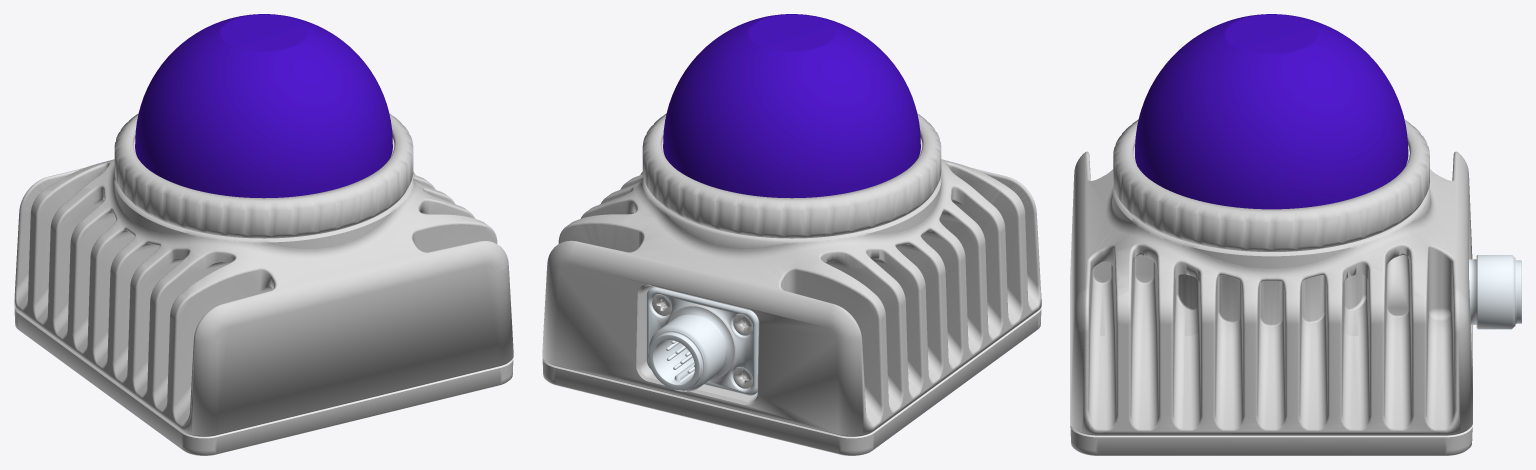
File: mid-360-asm.dae
3 renders of one model, left to right at view 1: azimuth 30°, elevation 25°; view 2: azimuth 150°, elevation 25°; view 3: azimuth 270°, elevation 25°, orthographic. The views are drawn at different scales.
Parts seen in each view (by area): view 1: node_82cb7ad0_a466_4590_afd9_c1edd8071fec_mesh0, node_82cb7ad0_a466_4590_afd9_c1edd8071fec_mesh6, node_82cb7ad0_a466_4590_afd9_c1edd8071fec_mesh3, node_82cb7ad0_a466_4590_afd9_c1edd8071fec_mesh1, node_82cb7ad0_a466_4590_afd9_c1edd8071fec_mesh4; view 2: node_82cb7ad0_a466_4590_afd9_c1edd8071fec_mesh0, node_82cb7ad0_a466_4590_afd9_c1edd8071fec_mesh6, node_82cb7ad0_a466_4590_afd9_c1edd8071fec_mesh3, node_82cb7ad0_a466_4590_afd9_c1edd8071fec_mesh1, node_82cb7ad0_a466_4590_afd9_c1edd8071fec_mesh5, node_82cb7ad0_a466_4590_afd9_c1edd8071fec_mesh4; view 3: node_82cb7ad0_a466_4590_afd9_c1edd8071fec_mesh0, node_82cb7ad0_a466_4590_afd9_c1edd8071fec_mesh6, node_82cb7ad0_a466_4590_afd9_c1edd8071fec_mesh1, node_82cb7ad0_a466_4590_afd9_c1edd8071fec_mesh3, node_82cb7ad0_a466_4590_afd9_c1edd8071fec_mesh5, node_82cb7ad0_a466_4590_afd9_c1edd8071fec_mesh4.
Boxes of the visible parts, <box> form: node_82cb7ad0_a466_4590_afd9_c1edd8071fec_mesh0: <box>14,159,513,435</box>; node_82cb7ad0_a466_4590_afd9_c1edd8071fec_mesh6: <box>135,14,392,198</box>; node_82cb7ad0_a466_4590_afd9_c1edd8071fec_mesh3: <box>14,113,513,455</box>; node_82cb7ad0_a466_4590_afd9_c1edd8071fec_mesh1: <box>72,163,497,426</box>; node_82cb7ad0_a466_4590_afd9_c1edd8071fec_mesh4: <box>14,138,513,438</box>; node_82cb7ad0_a466_4590_afd9_c1edd8071fec_mesh0: <box>542,159,1041,435</box>; node_82cb7ad0_a466_4590_afd9_c1edd8071fec_mesh6: <box>663,14,920,198</box>; node_82cb7ad0_a466_4590_afd9_c1edd8071fec_mesh3: <box>542,113,1041,455</box>; node_82cb7ad0_a466_4590_afd9_c1edd8071fec_mesh1: <box>569,163,1038,383</box>; node_82cb7ad0_a466_4590_afd9_c1edd8071fec_mesh5: <box>646,287,758,395</box>; node_82cb7ad0_a466_4590_afd9_c1edd8071fec_mesh4: <box>542,138,1041,438</box>; node_82cb7ad0_a466_4590_afd9_c1edd8071fec_mesh0: <box>1070,151,1472,434</box>; node_82cb7ad0_a466_4590_afd9_c1edd8071fec_mesh6: <box>1135,14,1408,209</box>; node_82cb7ad0_a466_4590_afd9_c1edd8071fec_mesh1: <box>1088,169,1454,431</box>; node_82cb7ad0_a466_4590_afd9_c1edd8071fec_mesh3: <box>1070,119,1472,455</box>; node_82cb7ad0_a466_4590_afd9_c1edd8071fec_mesh5: <box>1469,255,1521,329</box>; node_82cb7ad0_a466_4590_afd9_c1edd8071fec_mesh4: <box>1070,145,1477,437</box>.
Size of the model in its own units: 64.87 by 72.74 by 60.1.
